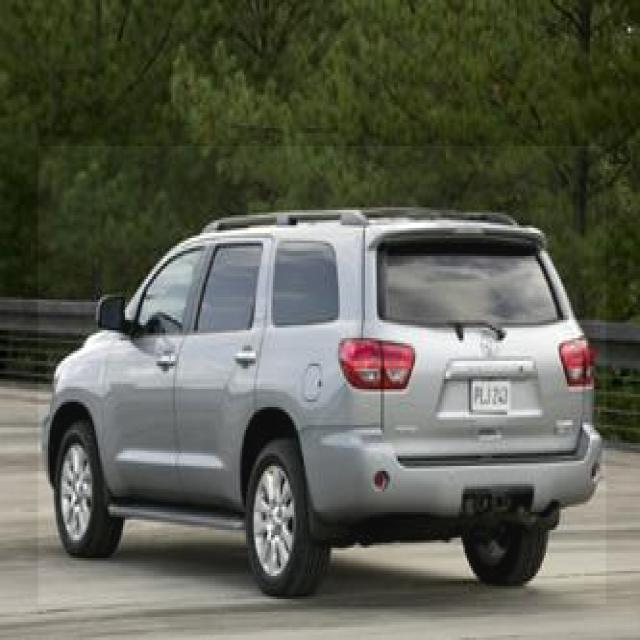Car: (38, 146, 606, 604)
